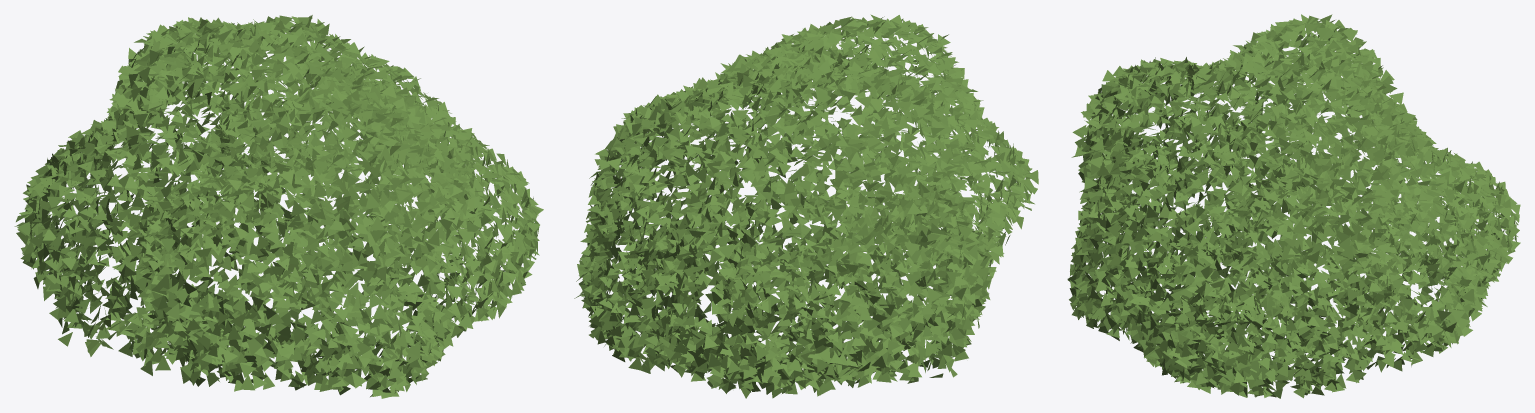
Rendered from tree-bush-1-1.glb.
3 views of the same model, side by side, from view 1: azimuth 30°, elevation 25°; view 2: azimuth 150°, elevation 25°; view 3: azimuth 270°, elevation 25° (orthographic). The views are drawn at different scales.
Parts seen in each view (by area): view 1: tree/bush@1/1; view 2: tree/bush@1/1; view 3: tree/bush@1/1.
Boxes of the visible parts, x1,y1,x2,y2 form: tree/bush@1/1: (14,15,543,398); tree/bush@1/1: (574,14,1038,398); tree/bush@1/1: (1067,14,1520,398).
Size of the model in its own units: 3302 by 2036 by 3190.
